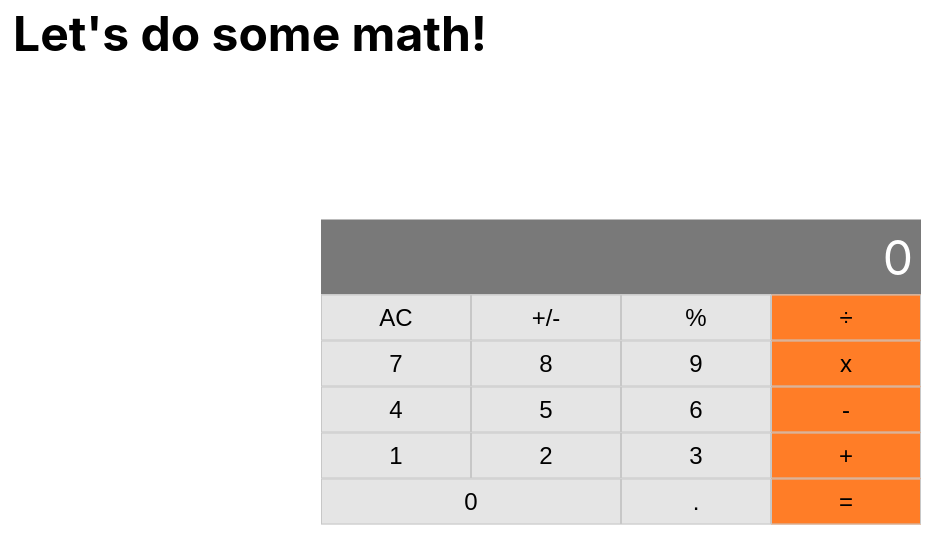
Test case: Calculator tests › Simulation of user interaction with the calculator: 9.4
This screenshot has width=938, height=542.
Click the button "9" at (696, 364), box [621,340,771,386]
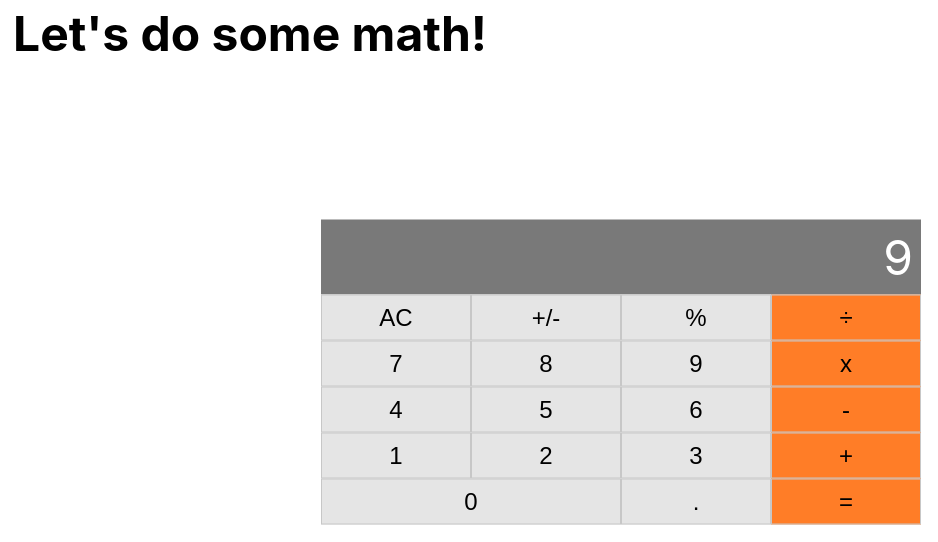
Click the button "." at (696, 502), box [621,478,771,524]
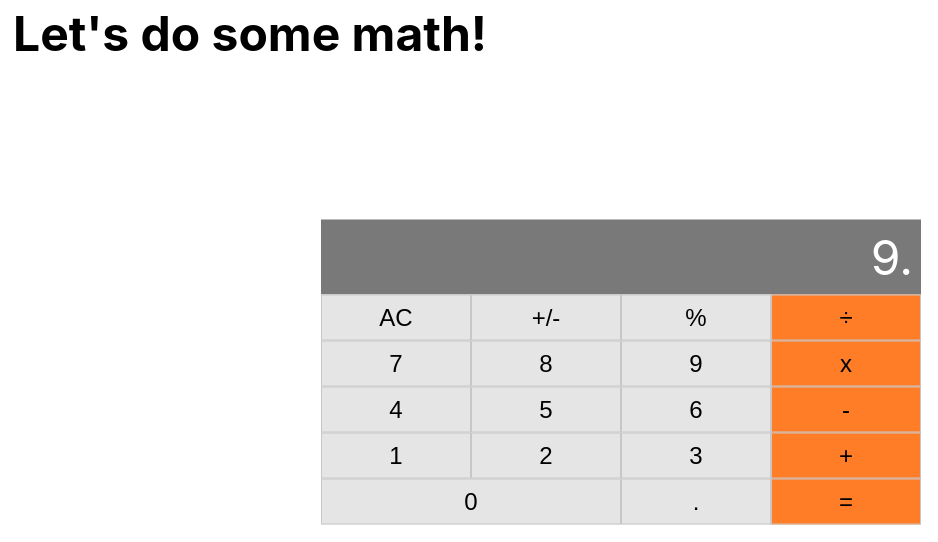
Click the button "4" at (396, 410), box [321,386,471,432]
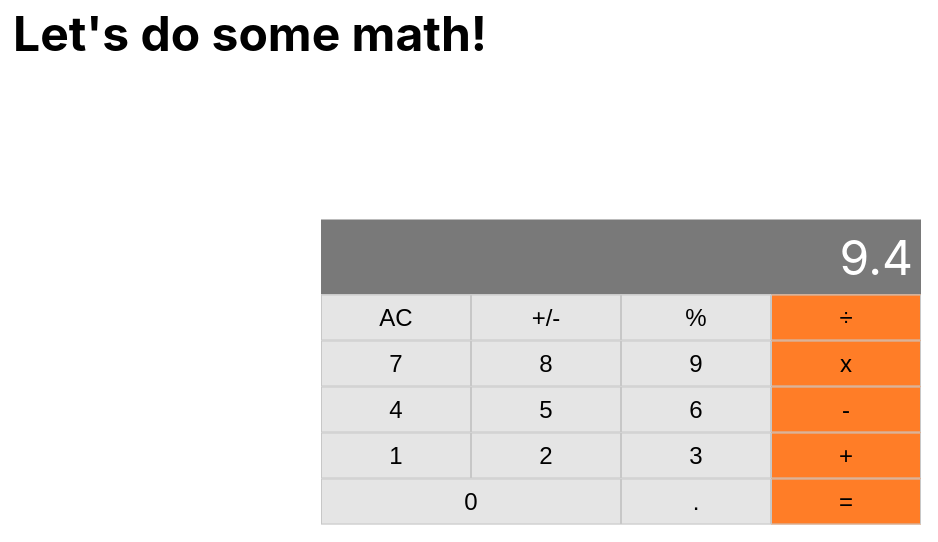
Expected: the text "9.4" is shown, [321,220,921,294]
